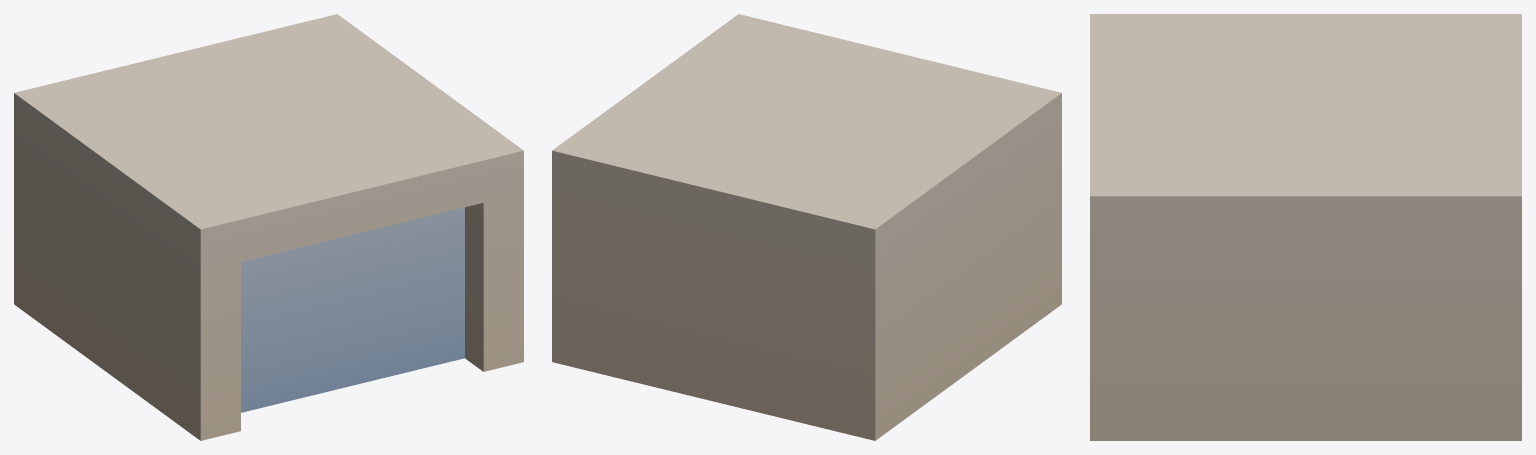
File: building-window-large.glb
3 renders of one model, left to right at view 1: azimuth 30°, elevation 25°; view 2: azimuth 150°, elevation 25°; view 3: azimuth 270°, elevation 25°, orthographic. The views are drawn at different scales.
Parts seen in each view (by area): view 1: building-window-large; view 2: building-window-large; view 3: building-window-large.
Part boxes in pixels (left/top/right/bottom): building-window-large: left=14, top=14, right=523, bottom=440; building-window-large: left=552, top=14, right=1061, bottom=440; building-window-large: left=1090, top=14, right=1521, bottom=440.
Bounding box in the file's own units: 1 × 0.625 × 1.
